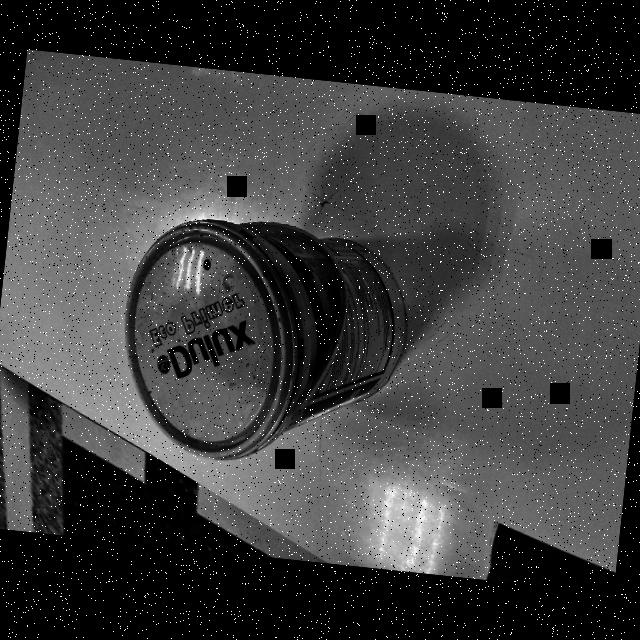paint_bucket: (96, 200, 419, 477)
